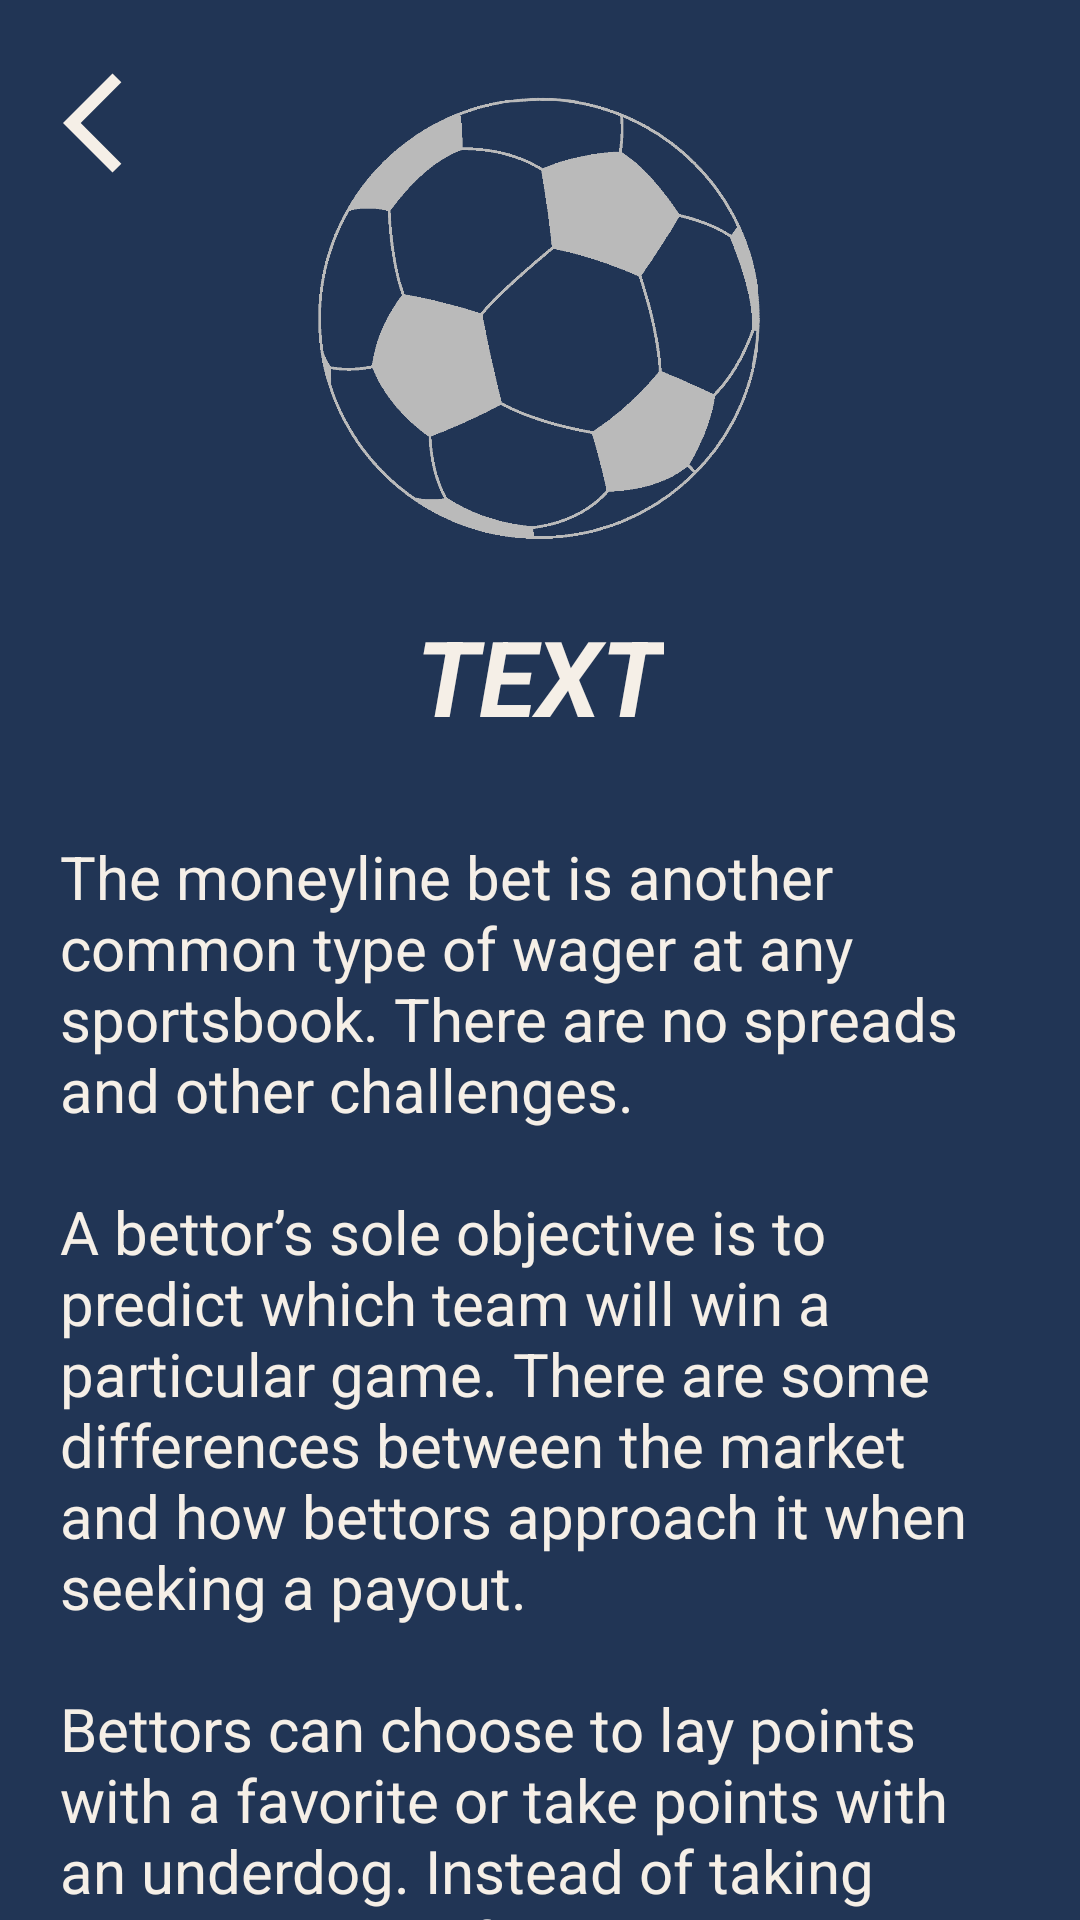

Named icons in this screenshot (1080x1920) and their centers, (x,y):
arrow back: (92,123)
